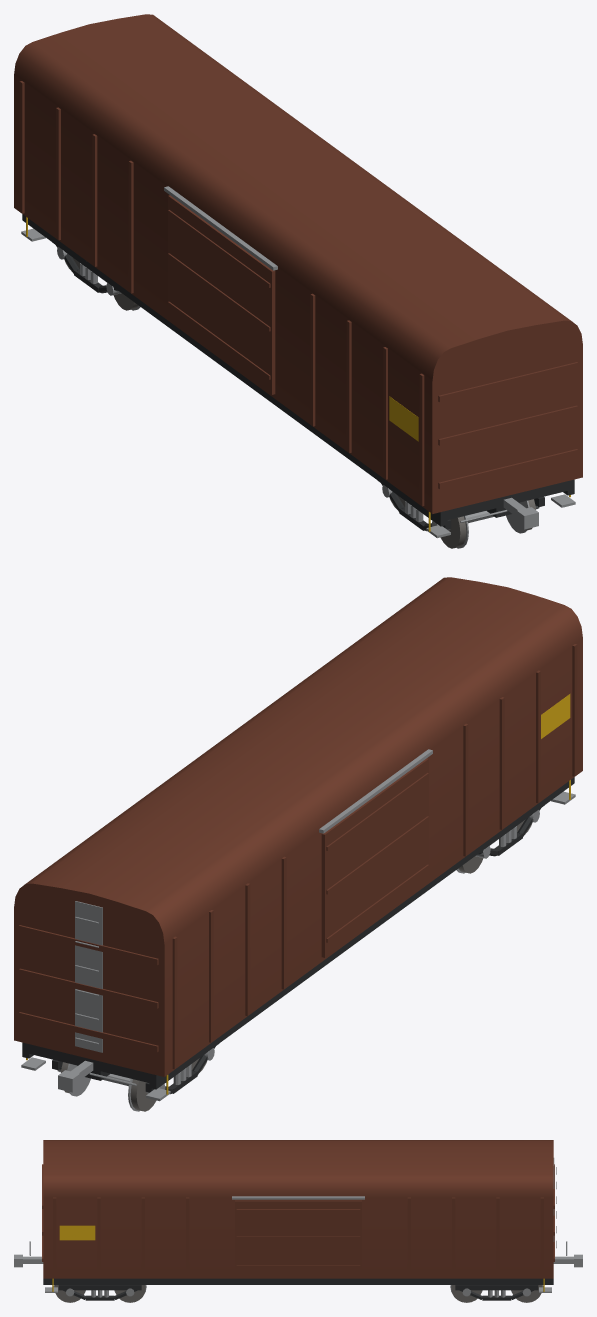
File: RS_Wagon_Box.fbx
The picture shows the model from 3 angles, top to bottom: view 1: azimuth 30°, elevation 25°; view 2: azimuth 150°, elevation 25°; view 3: azimuth 270°, elevation 25°; orthographic projection. The views are drawn at different scales.
Parts seen in each view (by area): view 1: Wagon_Box_Paint_Brown, Wagon_Box_Underframe, Wagon_Box_Steel, Wagon_Box_Wheel, Wagon_Box_Paint_Yellow; view 2: Wagon_Box_Paint_Brown, Wagon_Box_Steel, Wagon_Box_Underframe, Wagon_Box_Wheel, Wagon_Box_Paint_Yellow; view 3: Wagon_Box_Paint_Brown, Wagon_Box_Underframe, Wagon_Box_Steel, Wagon_Box_Wheel, Wagon_Box_Paint_Yellow.
Boxes of the visible parts, x1,y1,x2,y2 form: Wagon_Box_Paint_Brown: [14, 14, 582, 513]; Wagon_Box_Underframe: [22, 214, 574, 531]; Wagon_Box_Steel: [21, 186, 575, 548]; Wagon_Box_Wheel: [64, 257, 535, 548]; Wagon_Box_Paint_Yellow: [26, 217, 570, 531]; Wagon_Box_Paint_Brown: [14, 577, 582, 1076]; Wagon_Box_Steel: [21, 749, 575, 1111]; Wagon_Box_Underframe: [22, 777, 574, 1094]; Wagon_Box_Wheel: [61, 820, 532, 1111]; Wagon_Box_Paint_Yellow: [26, 694, 570, 1094]; Wagon_Box_Paint_Brown: [42, 1140, 554, 1278]; Wagon_Box_Underframe: [43, 1278, 553, 1300]; Wagon_Box_Steel: [14, 1158, 582, 1297]; Wagon_Box_Wheel: [54, 1285, 542, 1302]; Wagon_Box_Paint_Yellow: [52, 1225, 544, 1291].
Size of the model in its own units: 3.46 by 4.65 by 17.5.
